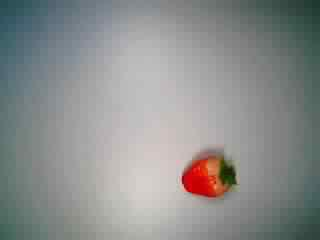strawberry: (174, 144, 240, 210)
